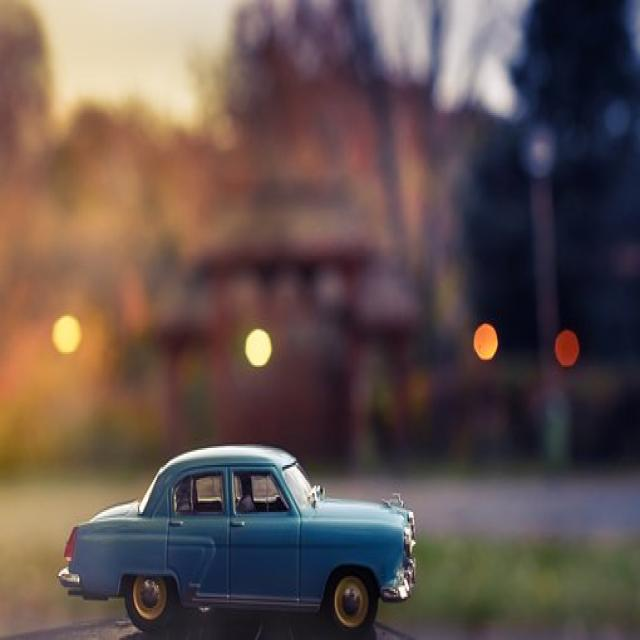Car: (56, 442, 416, 636)
